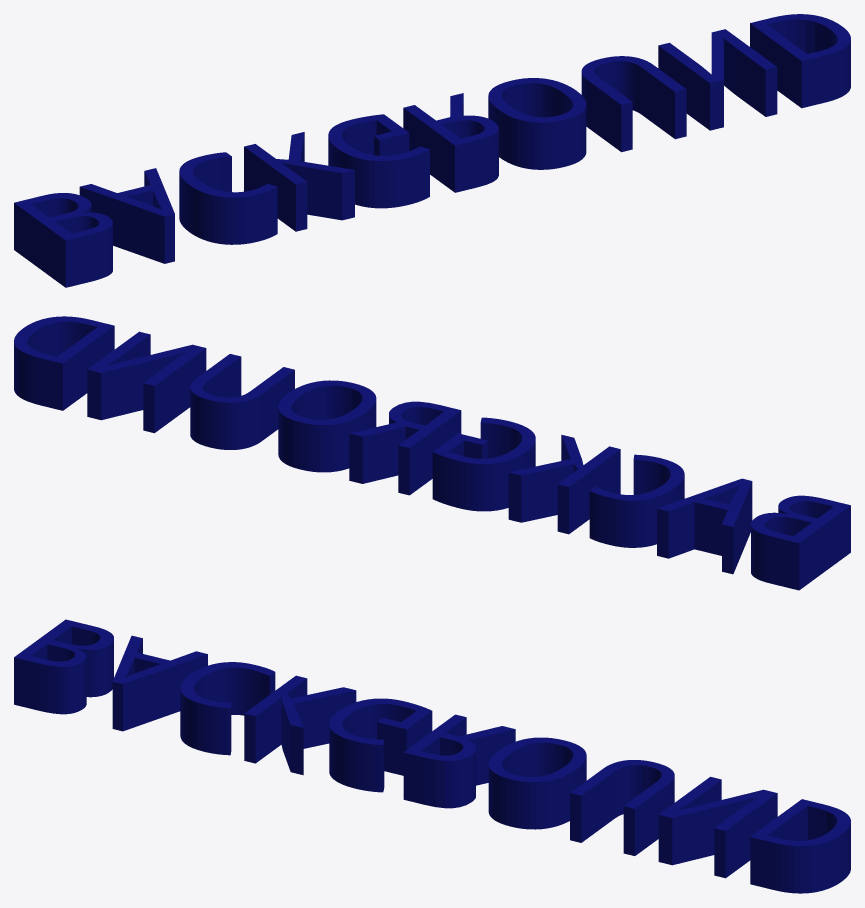
File: tinker.obj
The picture shows the model from 3 angles, top to bottom: view 1: azimuth 30°, elevation 25°; view 2: azimuth 150°, elevation 25°; view 3: azimuth 330°, elevation 25°; orthographic projection.
Visible parts, largest first — view 1: obj_0; view 2: obj_0; view 3: obj_0.
Boxes of the visible parts, x1,y1,x2,y2 form: obj_0: [14, 14, 850, 287]; obj_0: [14, 316, 850, 590]; obj_0: [14, 619, 850, 893].
Bounding box in the file's own units: 177 × 10 × 20.42.
